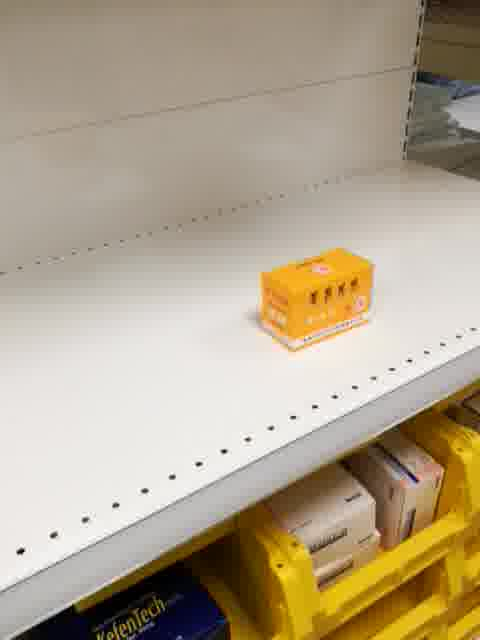jasminetea: (258, 244, 375, 355)
